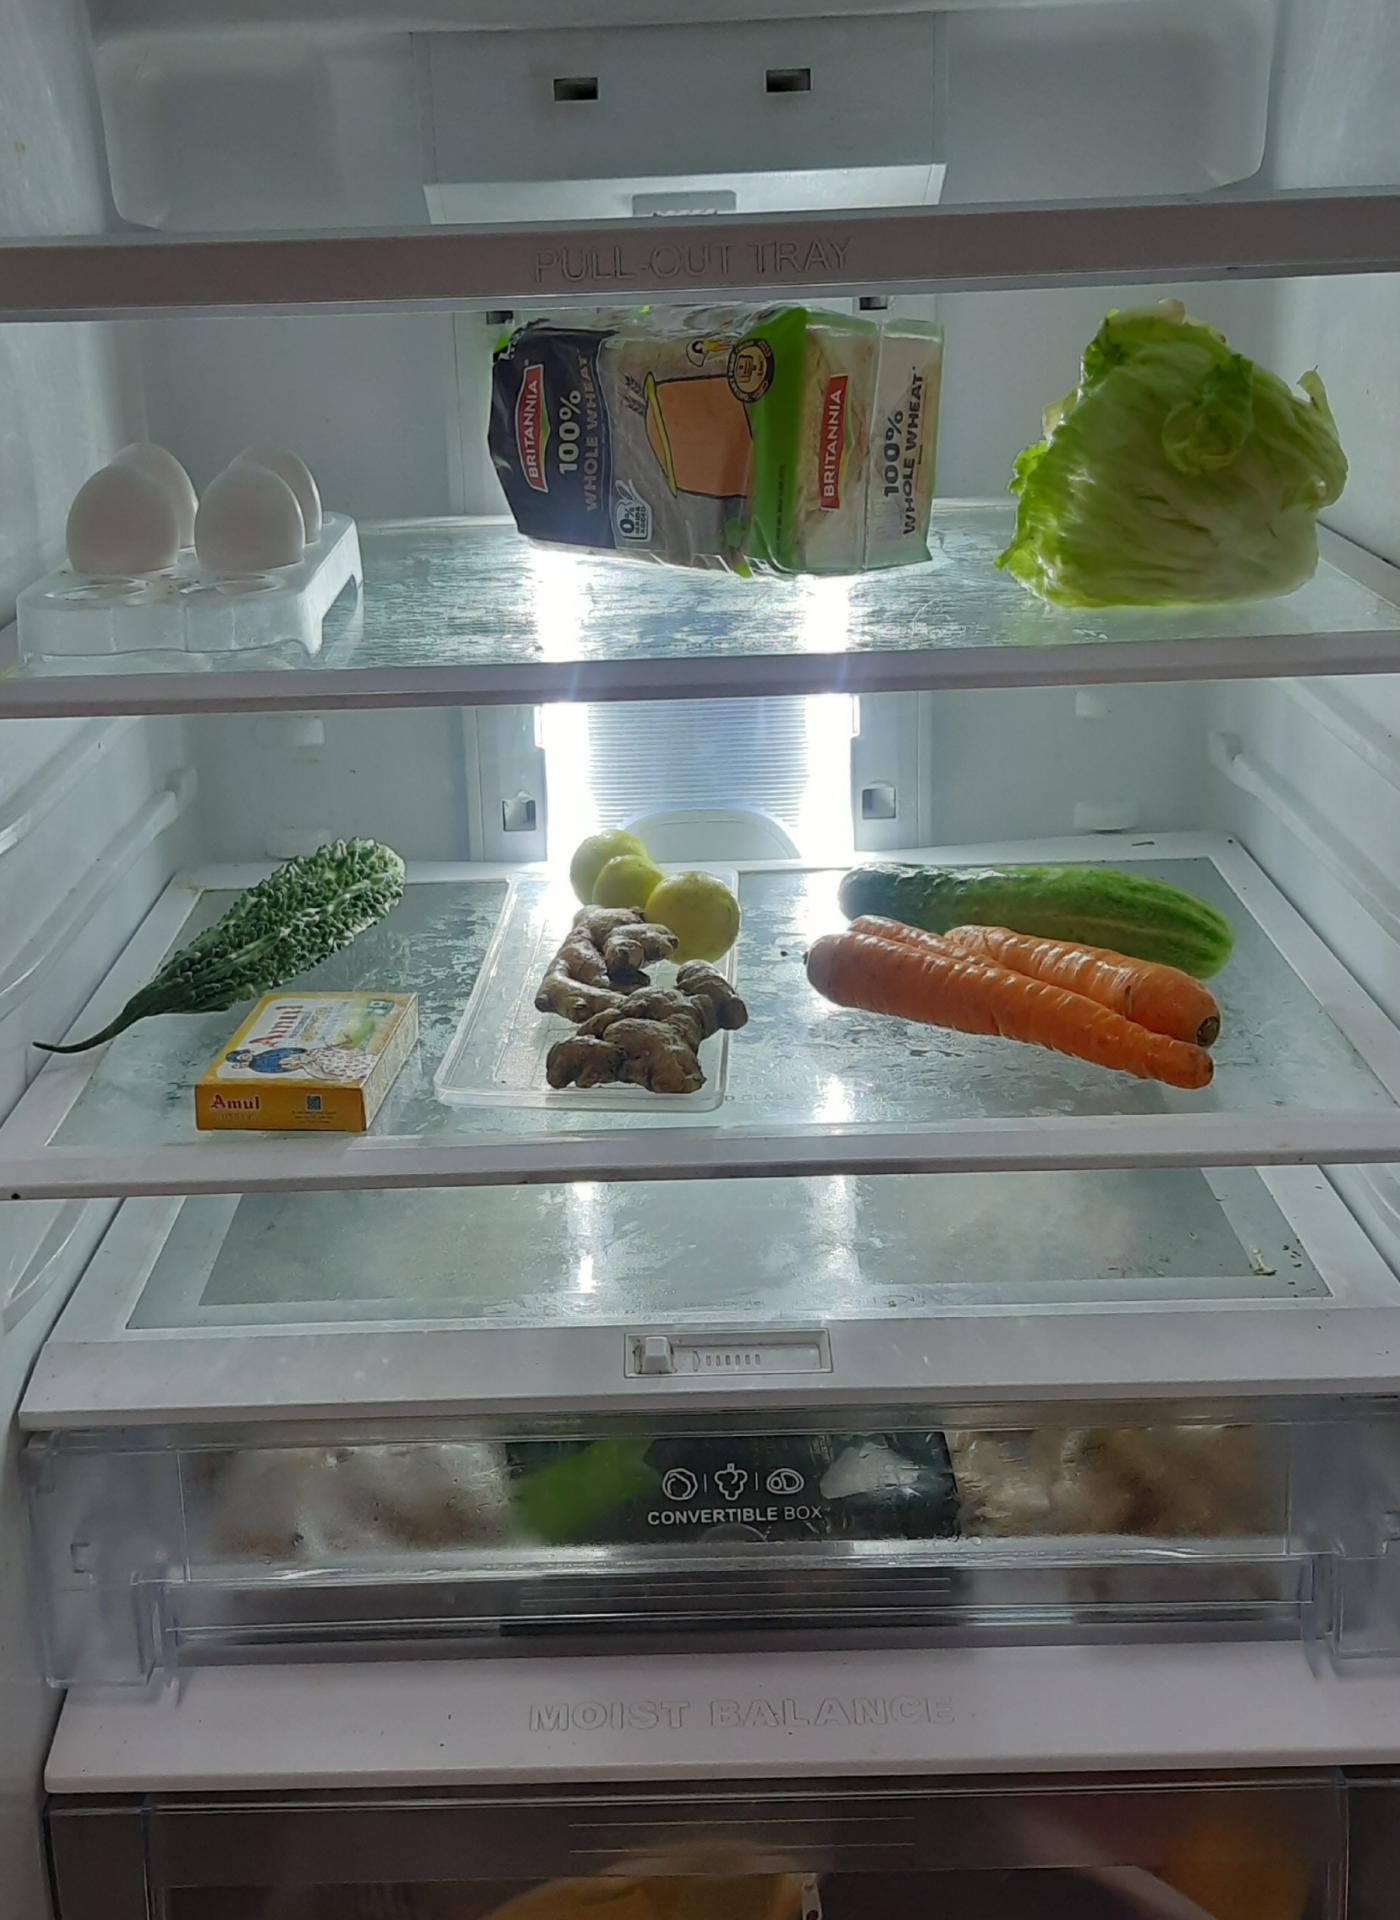bitter gourd: (16, 833, 414, 1064)
bread: (494, 313, 948, 584)
butter: (195, 994, 425, 1136)
carrots: (799, 923, 1227, 1091)
cucumber: (838, 838, 1239, 959)
egg: (66, 447, 331, 595)
ginger: (535, 935, 750, 1102)
lemon: (577, 827, 748, 964)
lettuce: (1009, 312, 1354, 605)
